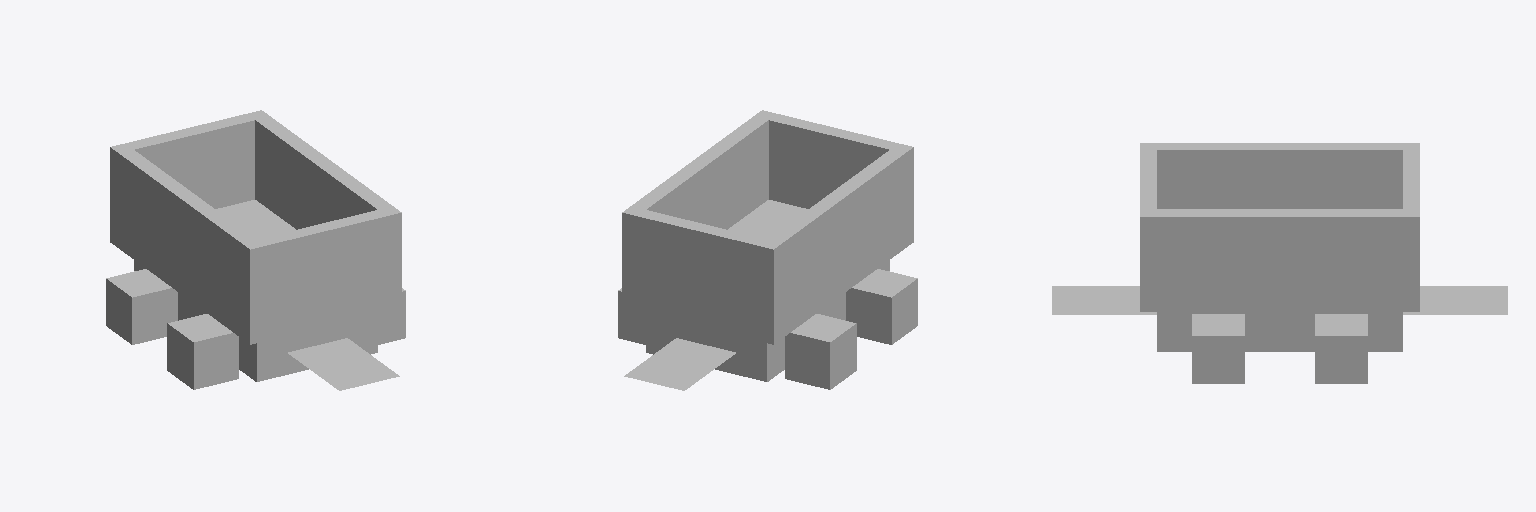
The model's file is minecart.obj.
The picture shows the model from 3 angles: view 1: azimuth 30°, elevation 25°; view 2: azimuth 150°, elevation 25°; view 3: azimuth 270°, elevation 25°; orthographic projection.
Visible parts, largest first — view 1: container_sides, wheel, frame, coupler_back, container_bottom; view 2: container_sides, wheel, frame, coupler_front, container_bottom; view 3: container_sides, wheel, frame, coupler_front, coupler_back, container_bottom.
Boxes of the visible parts, <box> form: container_sides: <box>110,110,401,344</box>; wheel: <box>106,269,405,389</box>; frame: <box>134,261,377,381</box>; coupler_back: <box>288,338,399,390</box>; container_bottom: <box>134,200,377,349</box>; container_sides: <box>622,110,913,344</box>; wheel: <box>618,269,917,389</box>; frame: <box>646,261,889,381</box>; coupler_front: <box>624,338,735,390</box>; container_bottom: <box>646,200,889,349</box>; container_sides: <box>1140,143,1419,311</box>; wheel: <box>1192,314,1367,383</box>; frame: <box>1157,321,1402,351</box>; coupler_front: <box>1403,286,1507,314</box>; coupler_back: <box>1052,286,1156,314</box>; container_bottom: <box>1157,312,1402,320</box>.
Size of the model in its own units: 0.875 by 0.6 by 1.62.